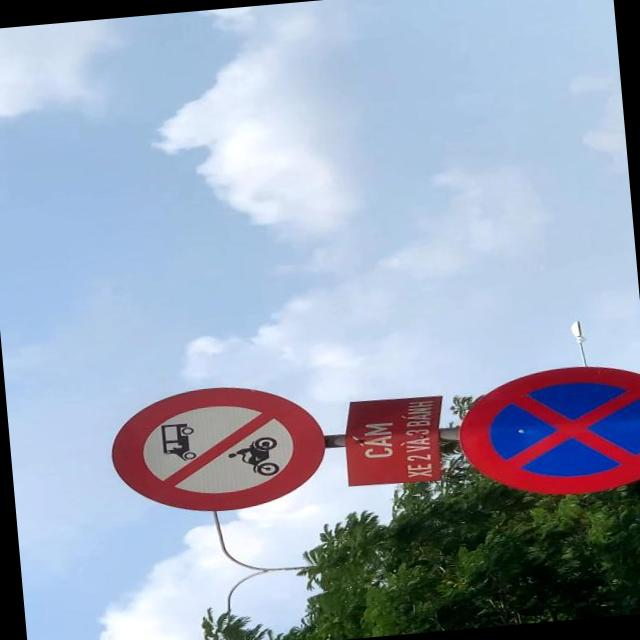P-104: (104, 379, 328, 517)
